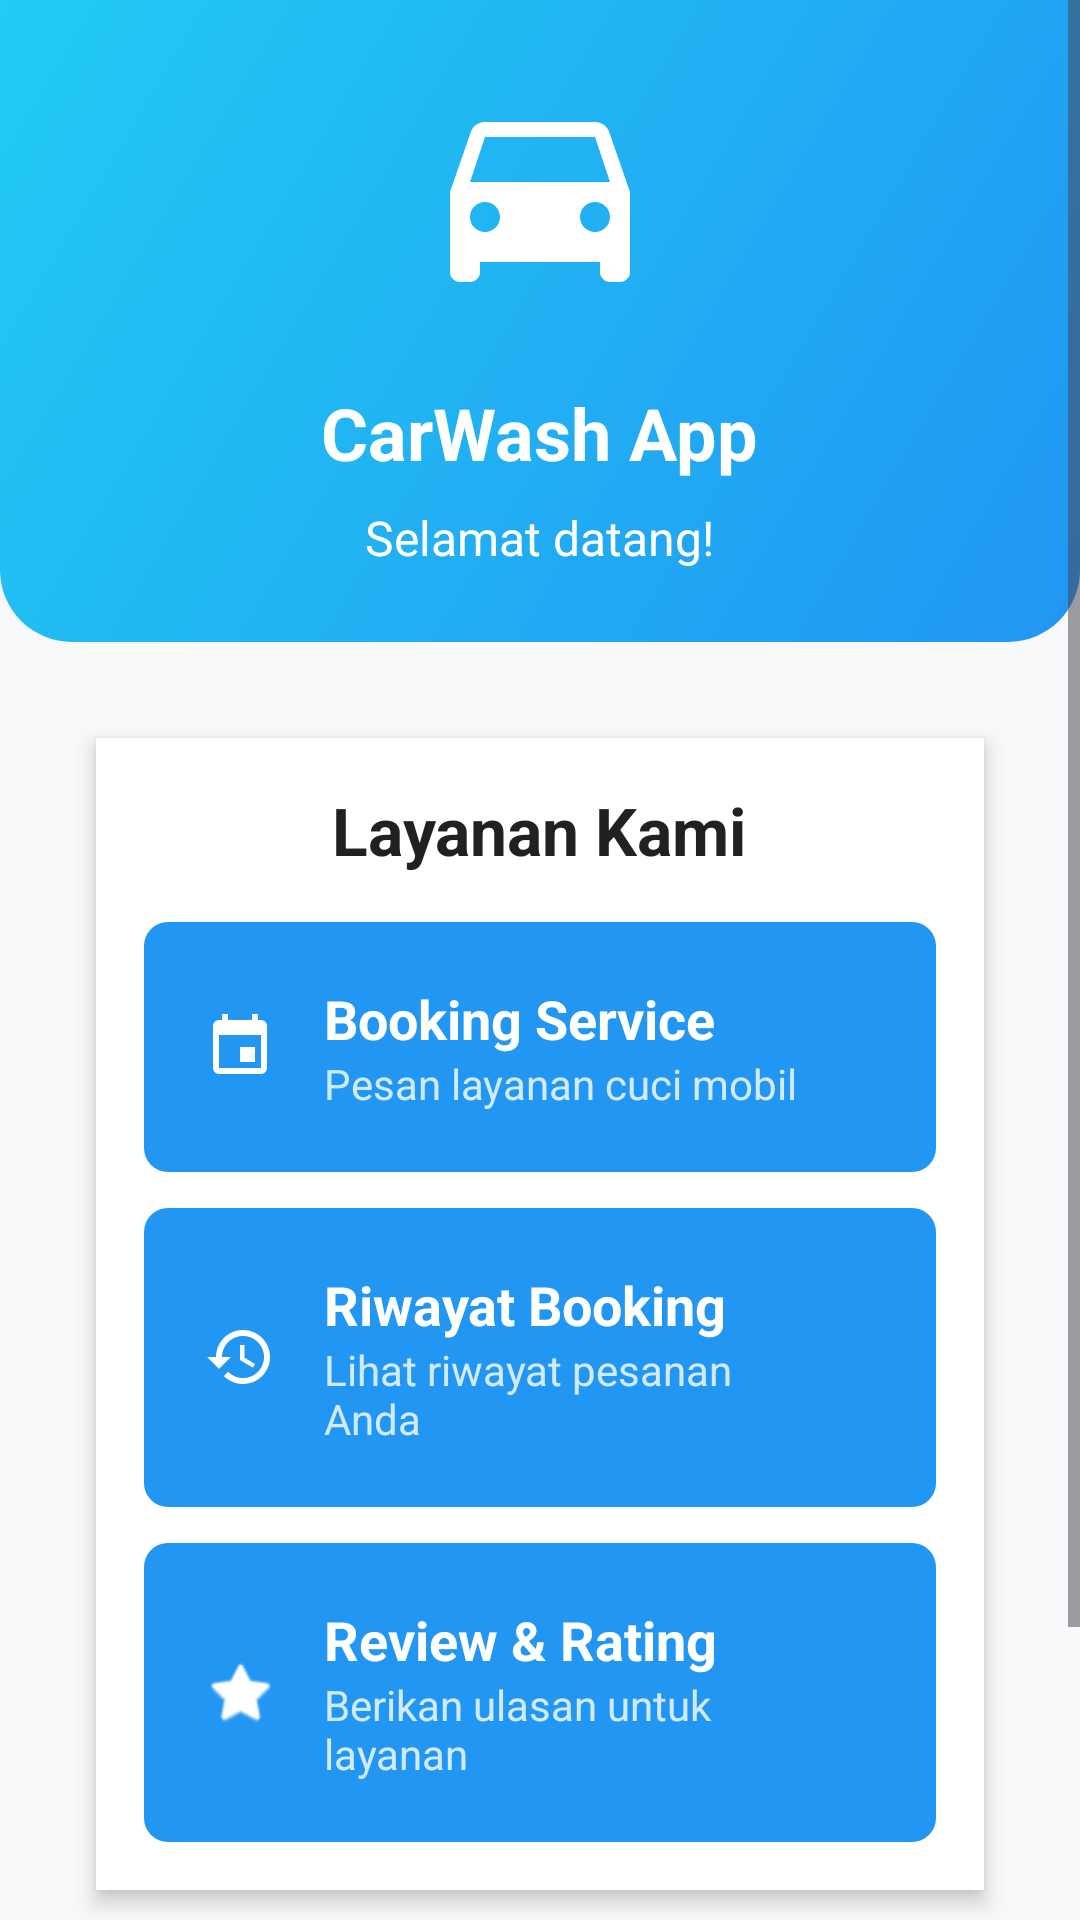

Locate icon controls on the screen. Image size 1080 × 1920, boxes as (x1=x1, y1=y1, x2=x2, y2=y2).
car: (x1=450, y1=122, x2=630, y2=282)
history: (x1=207, y1=1330, x2=270, y2=1384)
star: (x1=211, y1=1663, x2=271, y2=1722)
